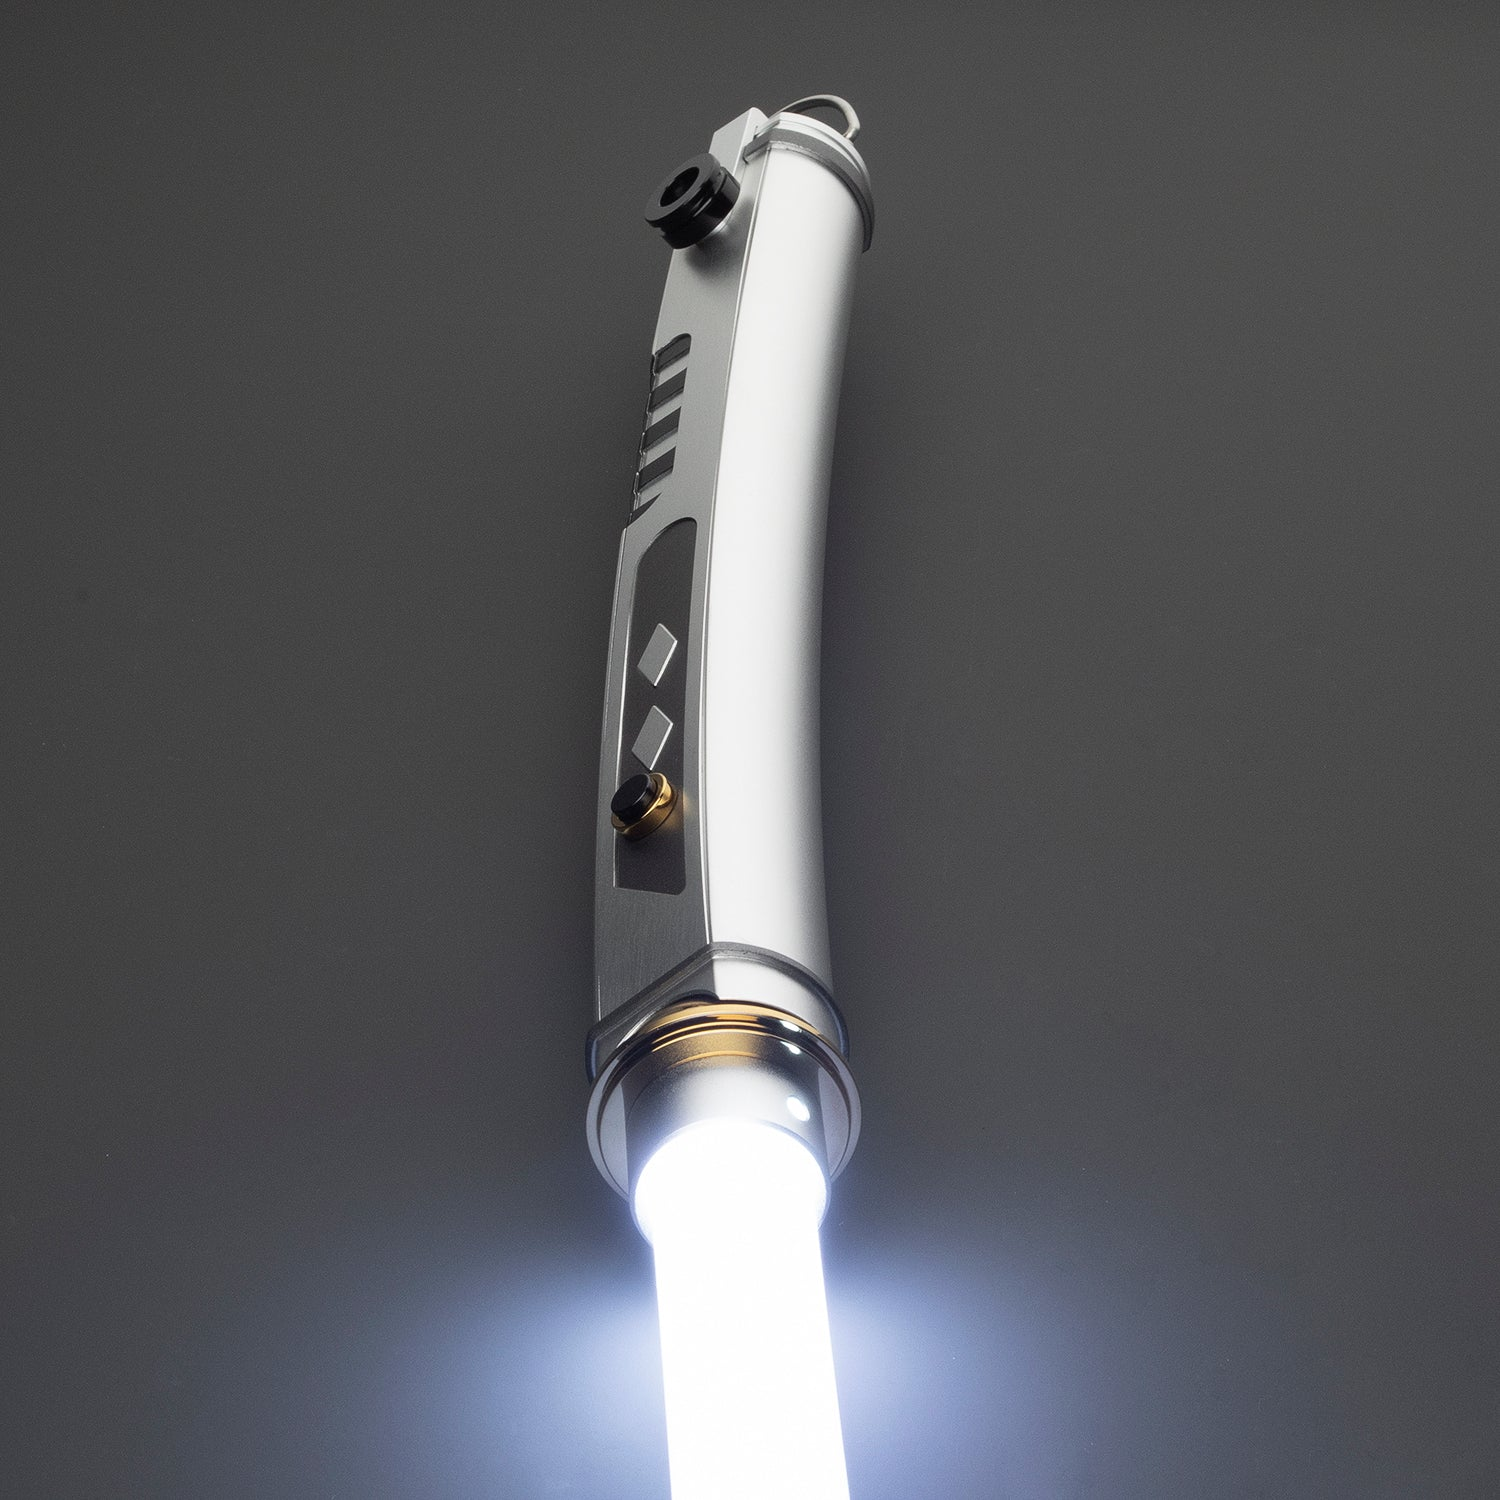lightsaber: (492, 0, 975, 1500)
